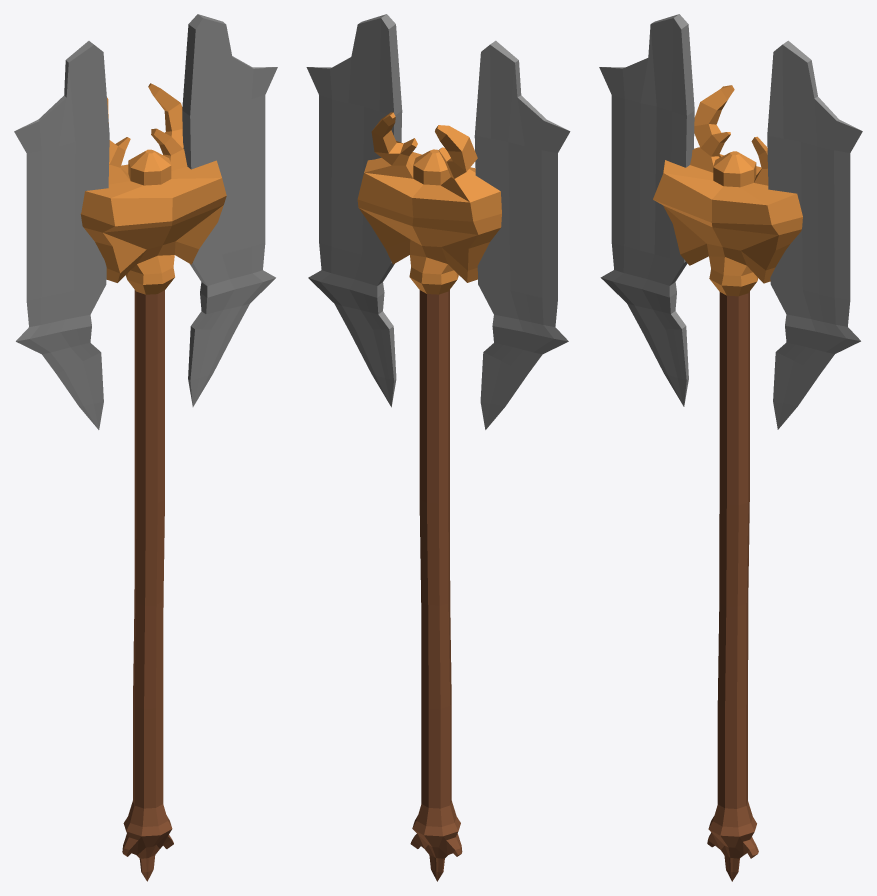
The model's file is HolyAxe.fbx.
3 renders of one model, left to right at view 1: azimuth 30°, elevation 25°; view 2: azimuth 150°, elevation 25°; view 3: azimuth 330°, elevation 25°, orthographic.
Visible parts, largest first — view 1: Axe 2; view 2: Axe 2; view 3: Axe 2.
Boxes of the visible parts, x1=… form: Axe 2: x1=14, y1=14, x2=277, y2=881; Axe 2: x1=306, y1=14, x2=570, y2=881; Axe 2: x1=599, y1=14, x2=862, y2=881.
Bounding box in the file's own units: 182 × 563 × 55.41.
